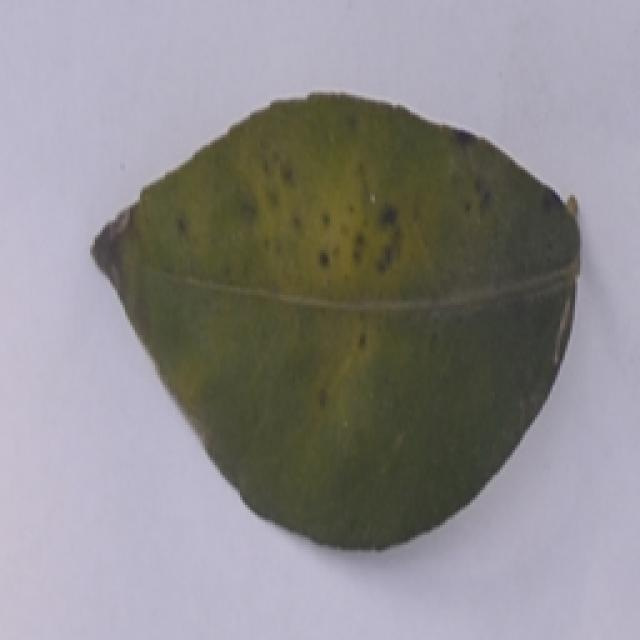blackspot: (94, 91, 602, 538)
